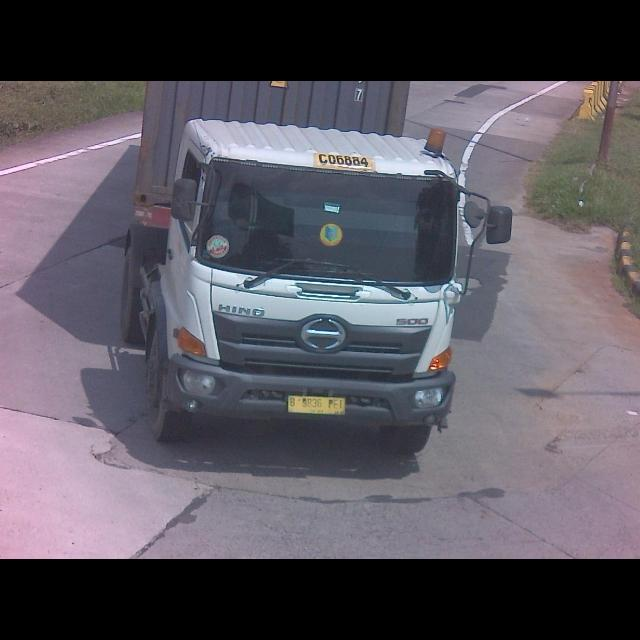plate: (288, 394, 346, 416)
